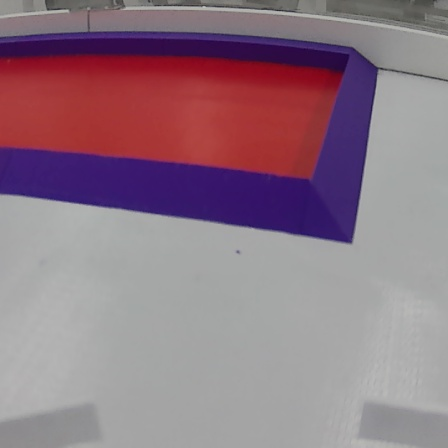red_aim: (0, 35, 378, 245)
